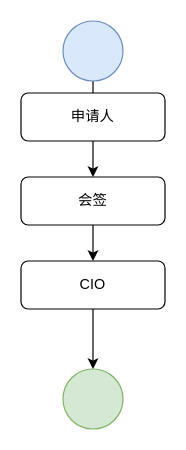
Image size: 186x450. Some labels were removed from this diagram. Here are the shapes that lost their labels. From the top down, the centre of each, then its label:
(x=92, y=50): 开始
(x=92, y=398): 结束
